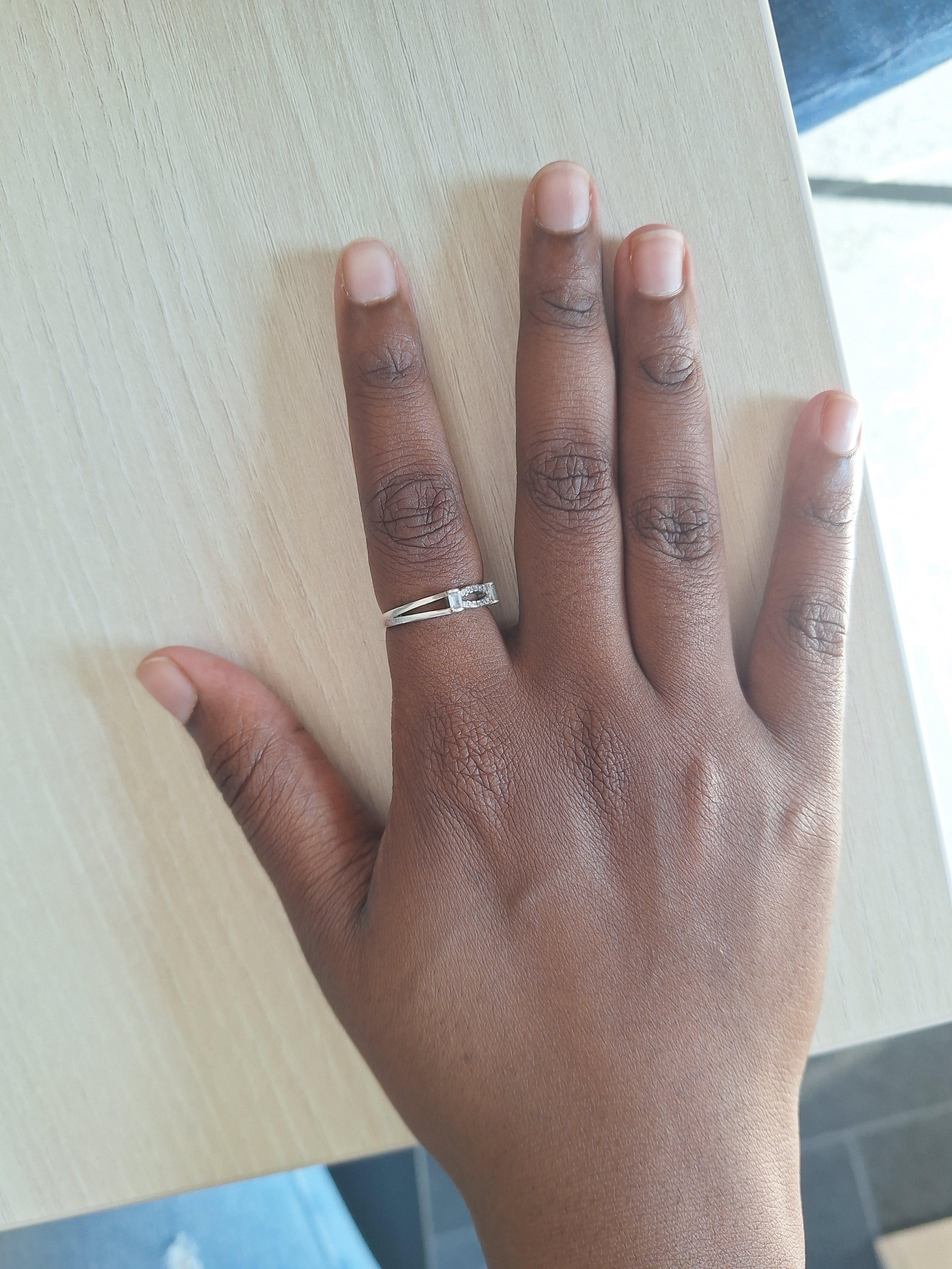Fingernail: (136, 657, 197, 723), (533, 163, 591, 232), (340, 237, 398, 303), (631, 230, 684, 297), (821, 394, 863, 454)
